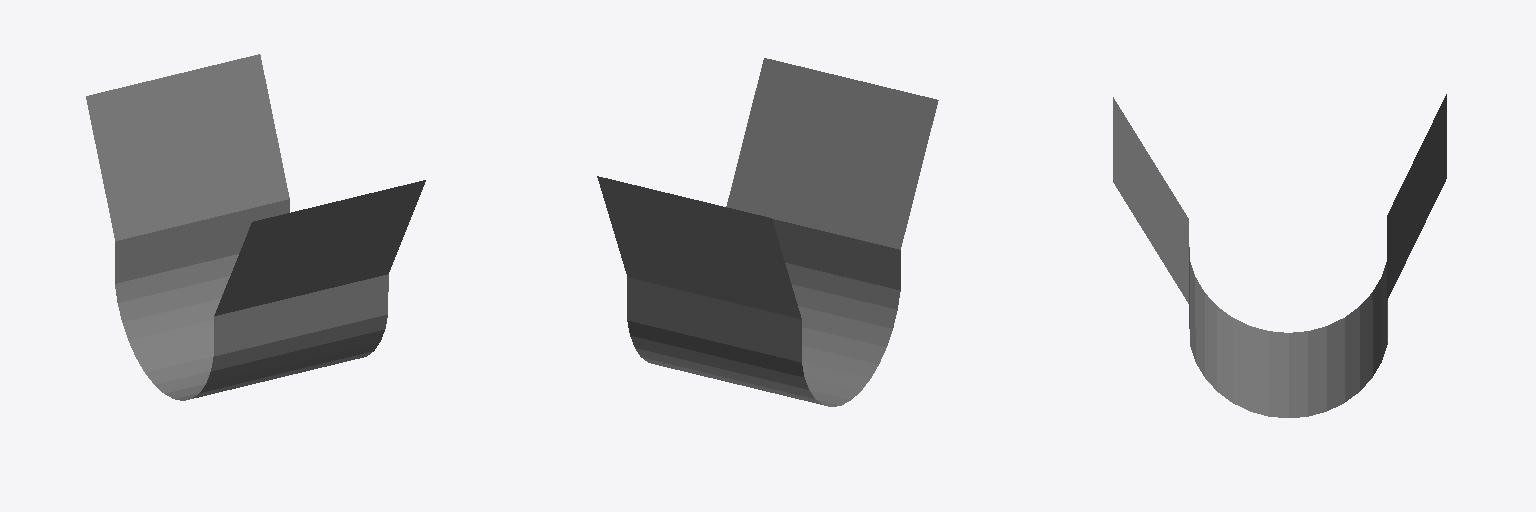
The model's file is hpsmall.obj.
3 views of the same model, side by side, from view 1: azimuth 30°, elevation 25°; view 2: azimuth 150°, elevation 25°; view 3: azimuth 270°, elevation 25° (orthographic).
Parts seen in each view (by area): view 1: Cylinder.001; view 2: Cylinder.001; view 3: Cylinder.001.
Boxes of the visible parts, x1,y1,x2,y2 form: Cylinder.001: [86, 54, 425, 400]; Cylinder.001: [597, 58, 938, 406]; Cylinder.001: [1113, 94, 1446, 417].
Bounding box in the file's own units: 2.01 × 2.63 × 3.31.